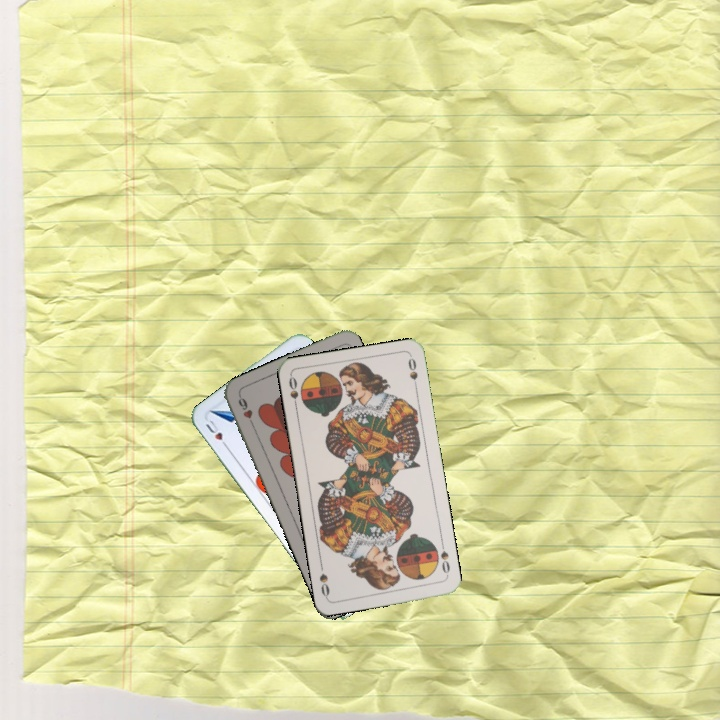H9: (234, 392, 257, 430)
HU: (201, 416, 231, 452)
SO: (285, 372, 301, 413), (436, 547, 453, 580)
